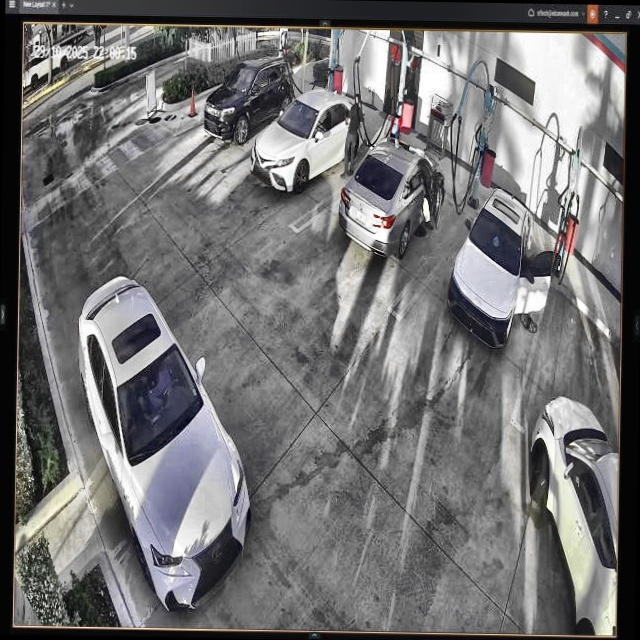Car: (69, 268, 254, 612), (453, 193, 556, 357), (341, 136, 445, 262), (251, 88, 365, 186), (205, 57, 292, 143)
